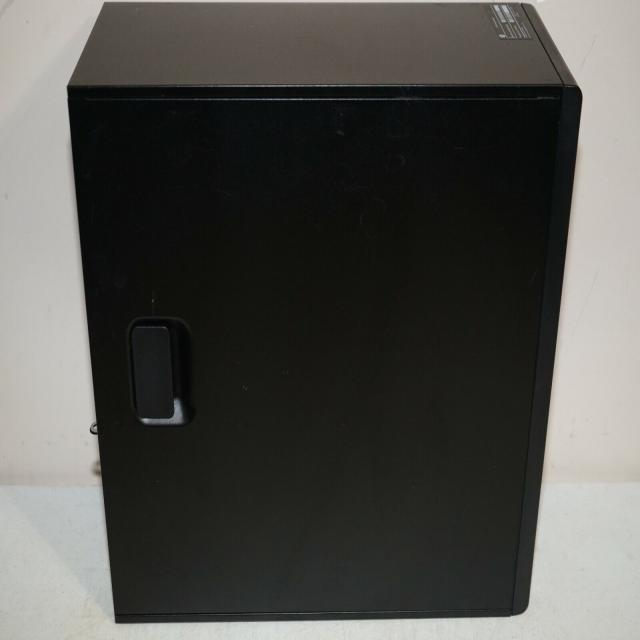Desktop-PC: (56, 6, 598, 634)
